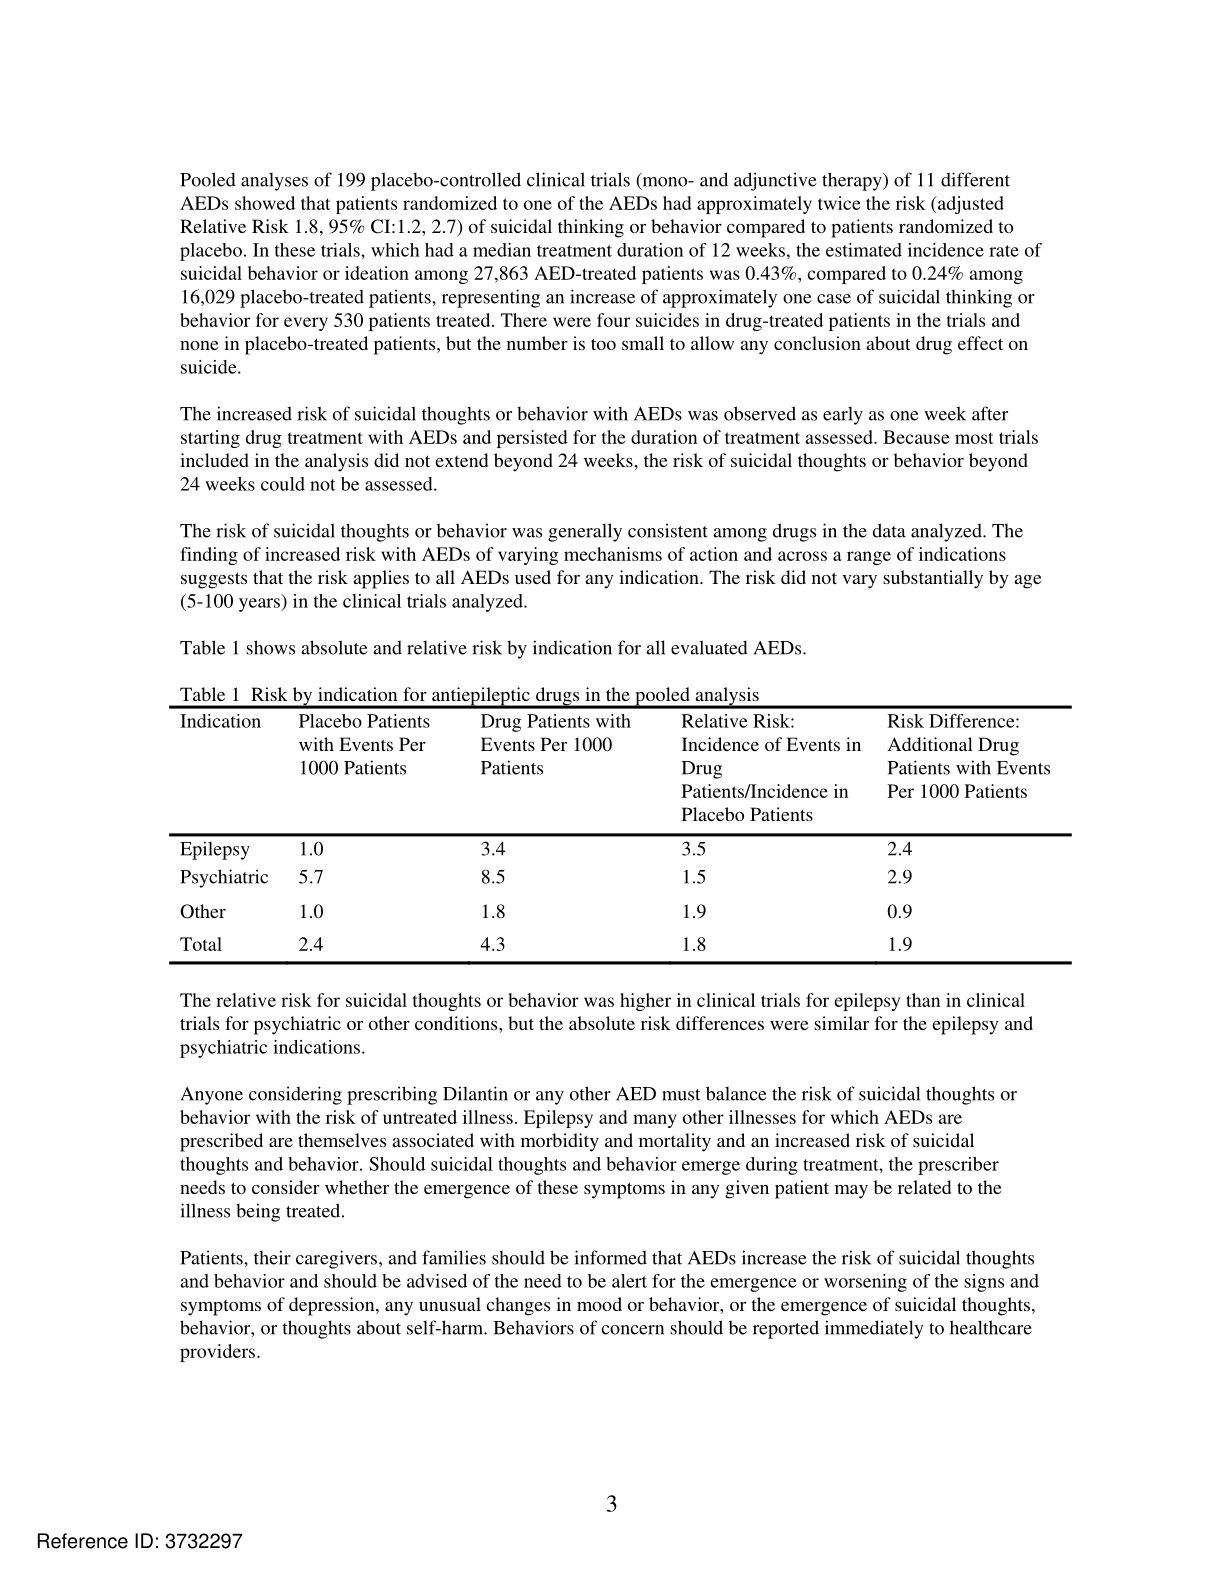partial_lined: (166, 703, 1074, 968)
